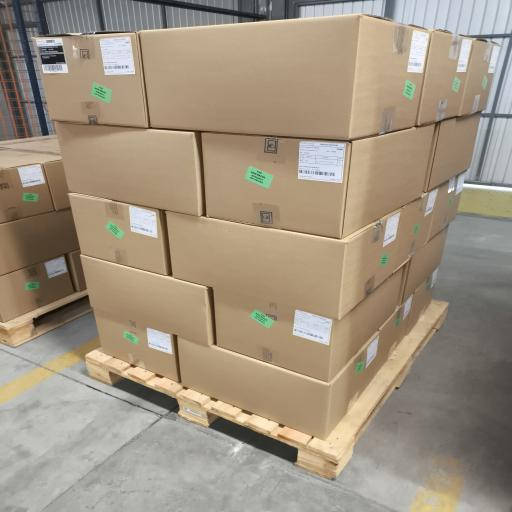pallet: (86, 301, 448, 478), (0, 290, 92, 347)
